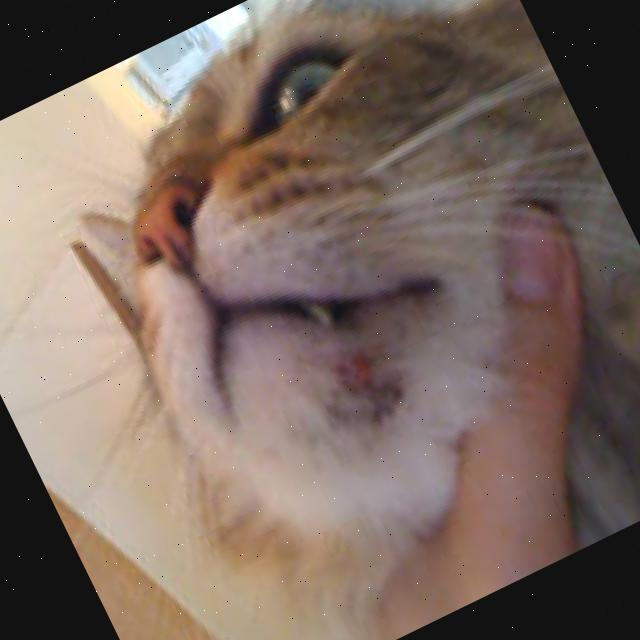cat-dermatitis: (287, 311, 417, 445)
